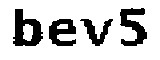5: (119, 4, 148, 51)
b: (1, 2, 42, 51)
e: (46, 18, 76, 48)
v: (82, 15, 115, 52)
